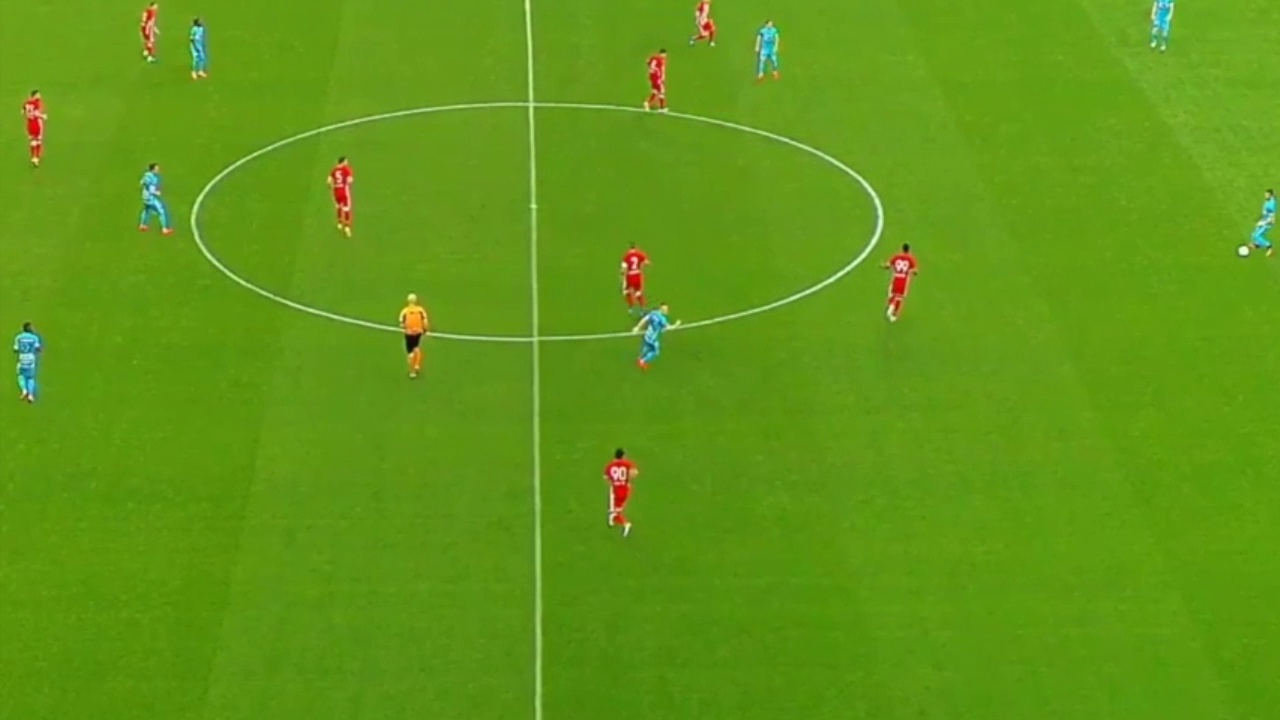ball: (1236, 243, 1250, 258)
person: (599, 447, 642, 536), (881, 241, 921, 318), (639, 302, 681, 372), (136, 158, 173, 233), (13, 320, 46, 404), (616, 240, 653, 312), (755, 16, 785, 83), (641, 43, 670, 112), (1249, 187, 1278, 252), (132, 1, 164, 58), (23, 88, 46, 165), (330, 156, 352, 236), (186, 18, 210, 79)
